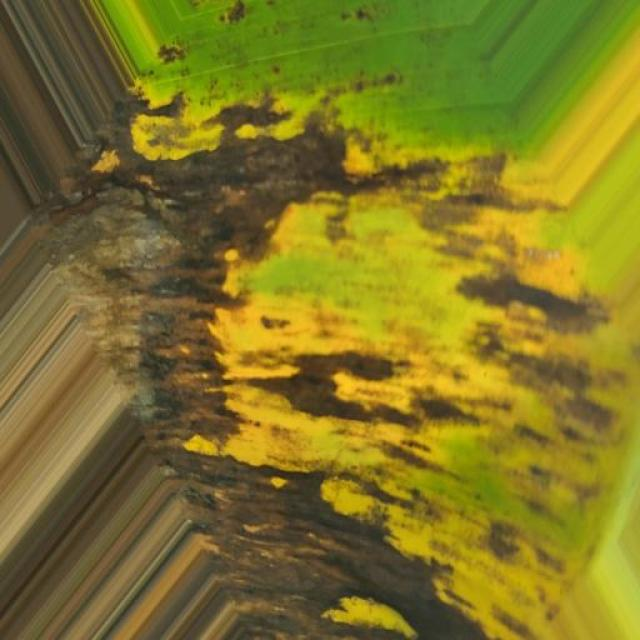Early_rust: (70, 39, 640, 640)
